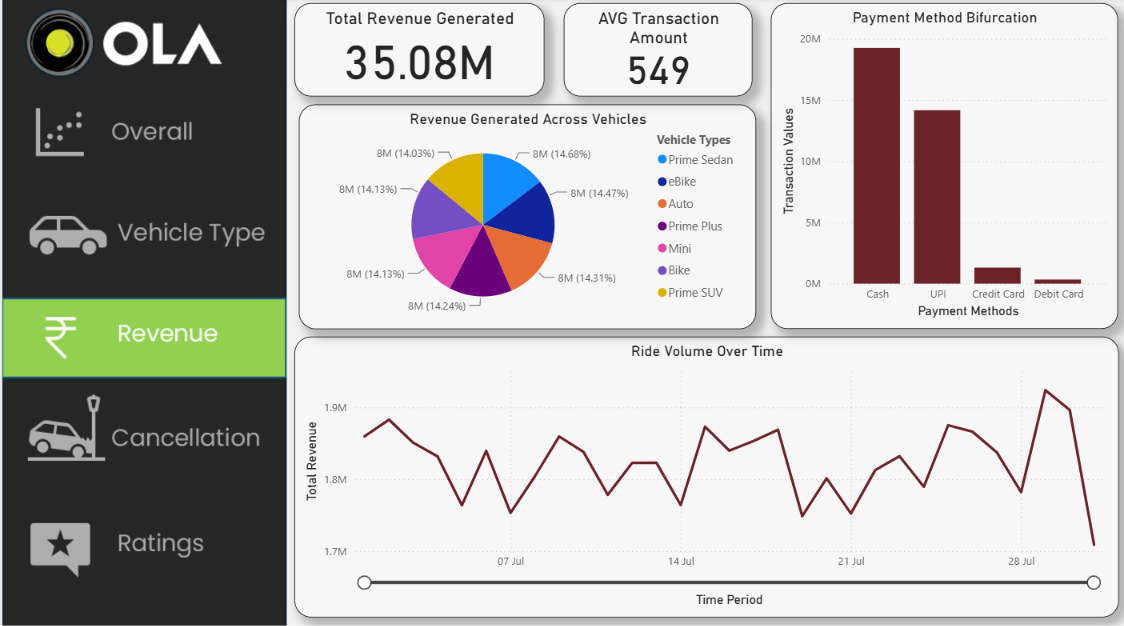

The page's visual inventory and layout, read from the dashboard file:
{"tool":"powerbi","page":{"name":"Revenue","canvas":[1280,720],"ordinal":2},"visuals":[{"type":"actionButton","box":[0,449.3,323.2,92.6],"z":0},{"type":"actionButton","box":[0,224.7,323.2,90.7],"z":1000},{"type":"actionButton","box":[0,340,325.2,92.6],"z":2000},{"type":"actionButton","box":[0,580.4,323.2,91.6],"z":3000},{"type":"actionButton","box":[0,112.3,323.2,82.8],"z":4000},{"type":"columnChart","title":"Payment Method Bifurcation","fields":{"Category":["OlaData.Payment_Method"],"Y":["Sum(OlaData.Booking_Value)"]},"box":[875.8,6.1,395.5,371.2],"z":5000},{"type":"lineChart","title":"Ride Volume Over Time","fields":{"Y":["Sum(OlaData.Booking_Value)"],"Category":["OlaData.Date.Variation.Date Hierarchy.Year","OlaData.Date.Variation.Date Hierarchy.Quarter","OlaData.Date.Variation.Date Hierarchy.Month","OlaData.Date.Variation.Date Hierarchy.Day"]},"box":[333.3,386.4,939.4,319.7],"z":6000},{"type":"card","title":"Total Revenue Generated","fields":{"Values":["Sum(OlaData.Booking_Value)"]},"box":[333.3,6.1,284.8,106.1],"z":7000},{"type":"card","title":"AVG Transaction Amount","fields":{"Values":["Avg(OlaData.Booking_Value)"]},"box":[639.4,6.1,215.2,106.1],"z":8000},{"type":"pieChart","title":"Revenue Generated Across Vehicles","fields":{"Y":["Sum(OlaData.Booking_Value)"],"Category":["OlaData.Vehicle_Type"]},"box":[337.9,121.2,521.2,256.1],"z":9000}]}

Visuals, with their boxes on the page's 1280x720 design canvas (x1, y1, x2, y2). These are canvas units, not pixel positions in the 1124x626 screenshot, which may show the page scaled, cropped or inside an application window:
actionButton: (0, 449, 323, 542)
actionButton: (0, 225, 323, 315)
actionButton: (0, 340, 325, 433)
actionButton: (0, 580, 323, 672)
actionButton: (0, 112, 323, 195)
"Payment Method Bifurcation" columnChart: (876, 6, 1271, 377)
"Ride Volume Over Time" lineChart: (333, 386, 1273, 706)
"Total Revenue Generated" card: (333, 6, 618, 112)
"AVG Transaction Amount" card: (639, 6, 855, 112)
"Revenue Generated Across Vehicles" pieChart: (338, 121, 859, 377)
